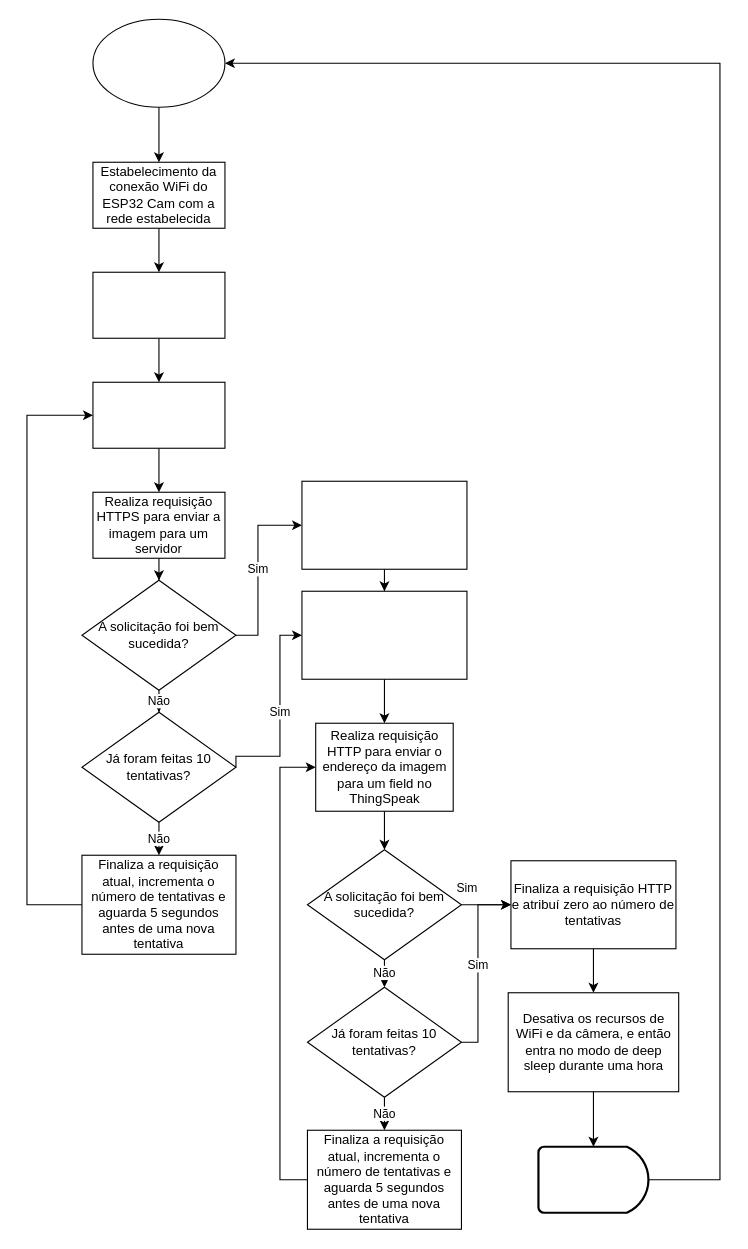
This 748x1249 diagram has some shape labels left out. The centre of each missing label's shape, as x and y in pixels:
"Aguarda uma hora antes de reiniciar" belongs at pixel 593 1179.
"Captura uma imagem, ativando a luz de flash durante a captura" belongs at pixel 158 414.
"Configuração dos pinos do ESP32 Cam e inicialização da câmera" belongs at pixel 158 304.
"Finaliza a requisição HTTPS e libera o buffer para armazenar a imagem" belongs at pixel 384 634.
"Inclusão de bibliotecas e definição de variáveis globais" belongs at pixel 158 62.
"Obtém o endereço da imagem no servidor" belongs at pixel 384 524.
